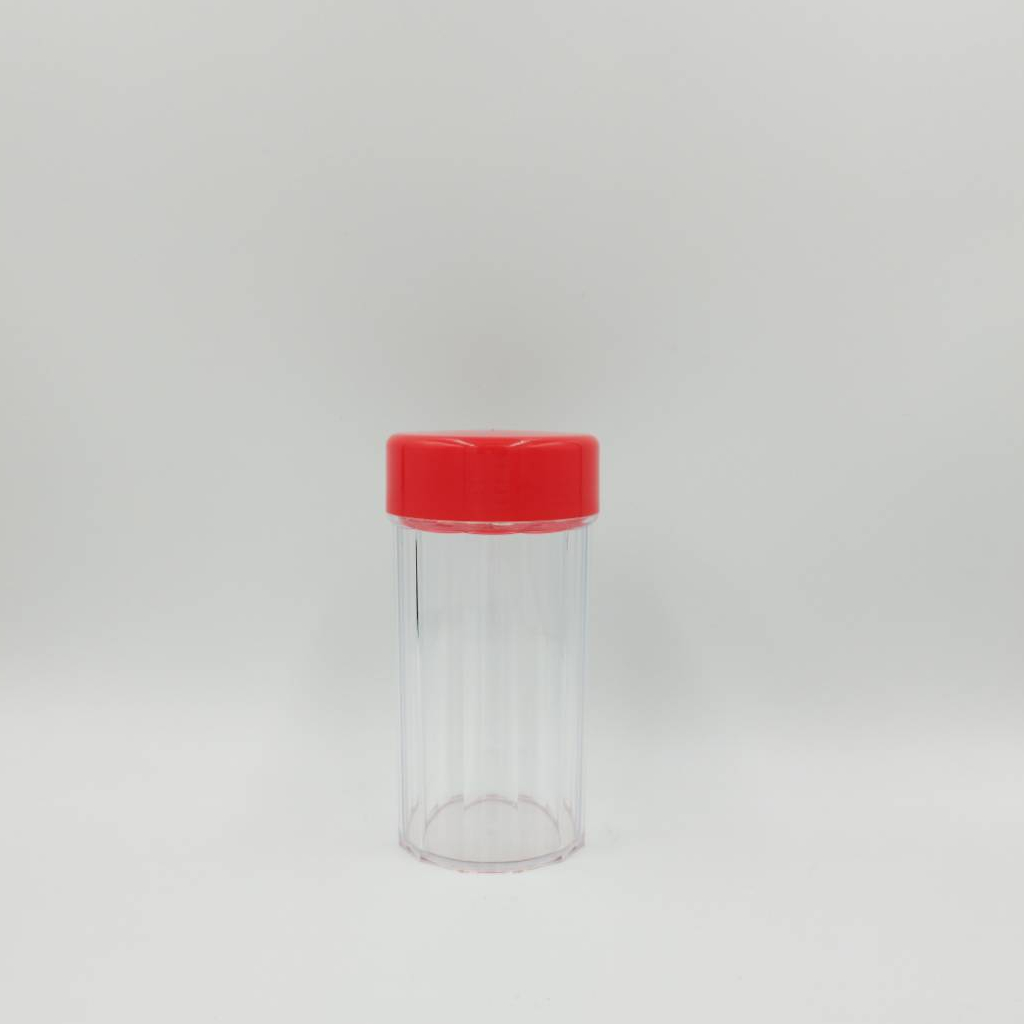medicinejar: (382, 422, 596, 867)
